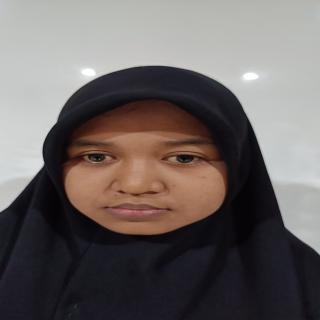Netral: (52, 99, 248, 240)
